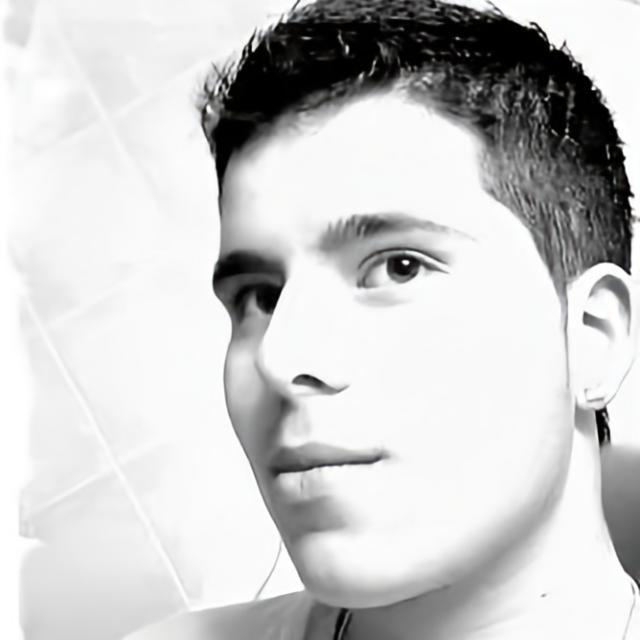neutral: (211, 80, 569, 614)
